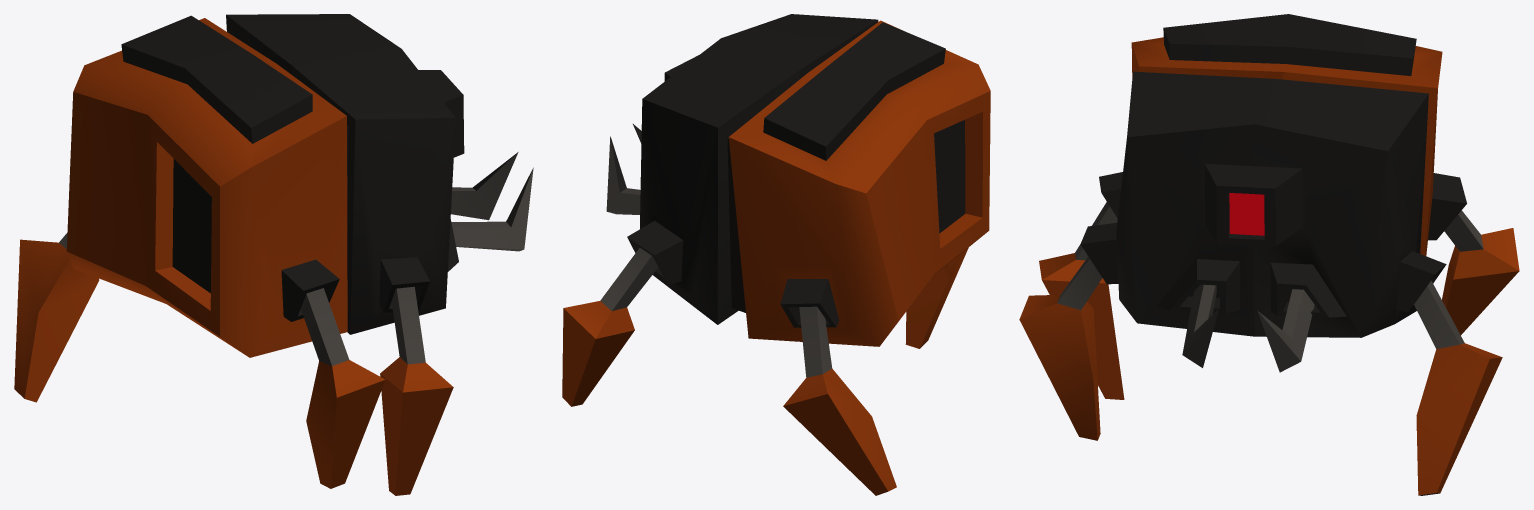
File: SPIDBOT9.obj
3 views of the same model, side by side, from view 1: azimuth 30°, elevation 25°; view 2: azimuth 150°, elevation 25°; view 3: azimuth 270°, elevation 25° (orthographic). The views are drawn at different scales.
Visible parts, largest first — view 1: Cube.001; view 2: Cube.001; view 3: Cube.001.
Boxes of the visible parts, x1=… form: Cube.001: x1=14, y1=14, x2=533, y2=495; Cube.001: x1=562, y1=14, x2=990, y2=495; Cube.001: x1=1019, y1=14, x2=1519, y2=495.
Size of what is drawn, in the model's own units: 3.15 by 2.84 by 3.47.
